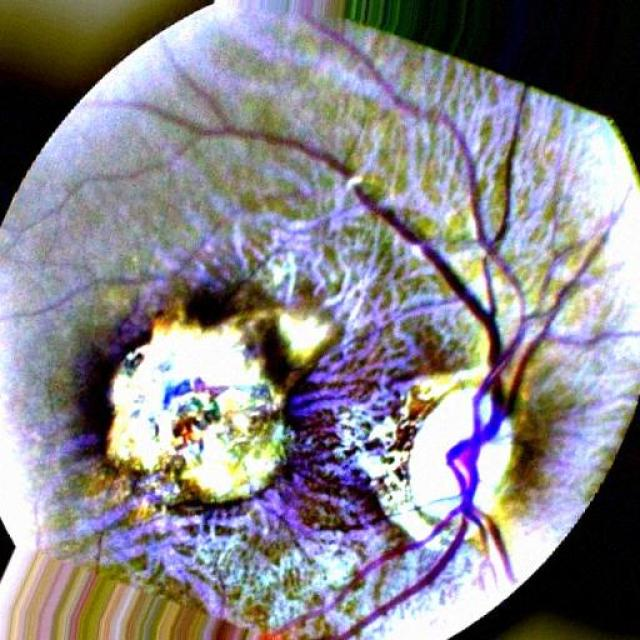Macula: (106, 309, 336, 502)
Nerves: (280, 110, 618, 639), (105, 101, 355, 179), (304, 15, 429, 119)
Optic Disk: (409, 386, 475, 515), (480, 425, 511, 509)
